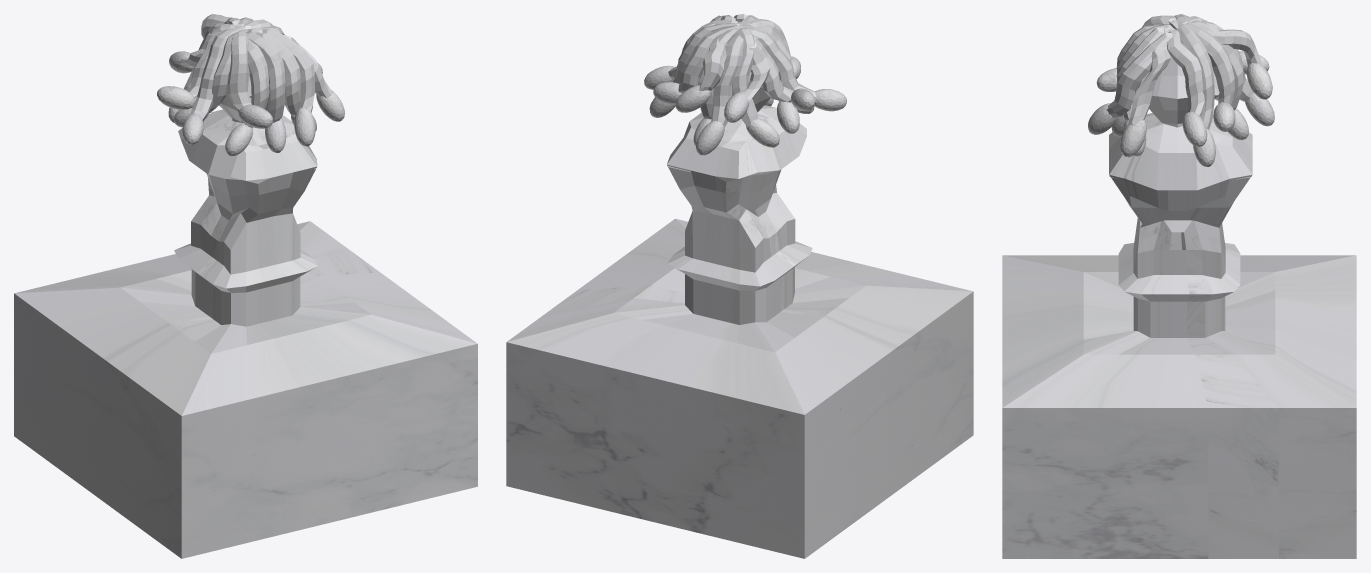
The model's file is Gorgon.fbx.
3 renders of one model, left to right at view 1: azimuth 30°, elevation 25°; view 2: azimuth 150°, elevation 25°; view 3: azimuth 270°, elevation 25°, orthographic. The views are drawn at different scales.
Parts seen in each view (by area): view 1: Cube.089; view 2: Cube.089; view 3: Cube.089.
Part boxes in pixels (x1,y1,x2,y2): Cube.089: [14, 14, 477, 558]; Cube.089: [506, 14, 973, 558]; Cube.089: [1002, 14, 1356, 558].
Bounding box in the file's own units: 86.57 × 122 × 84.85.
